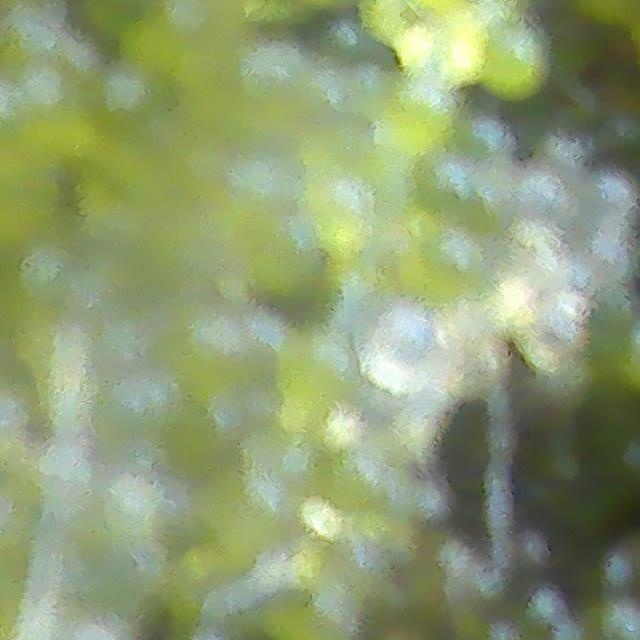SeaGrape: (10, 70, 101, 155), (279, 328, 362, 414), (362, 314, 448, 395), (306, 177, 375, 262), (472, 25, 541, 98), (411, 230, 481, 301), (408, 160, 482, 226), (519, 297, 583, 370), (508, 224, 566, 301), (384, 83, 451, 149), (509, 168, 576, 228), (583, 164, 637, 224), (581, 231, 628, 288)
